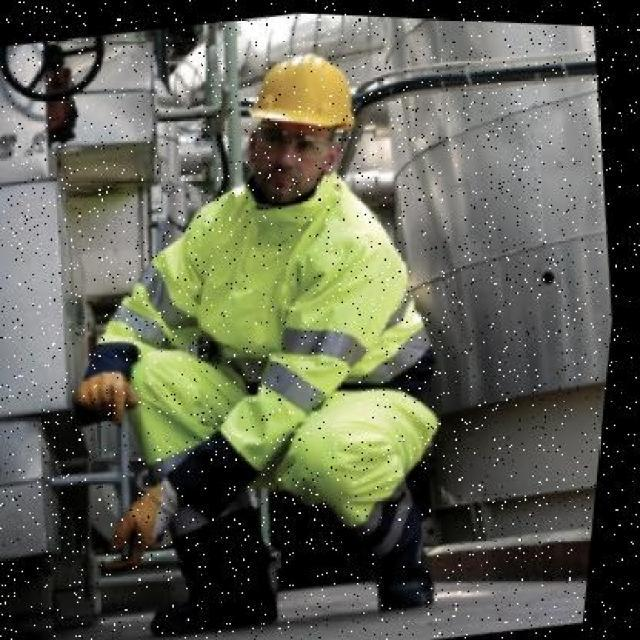helmet: (237, 37, 368, 145)
vest: (57, 153, 475, 574)
